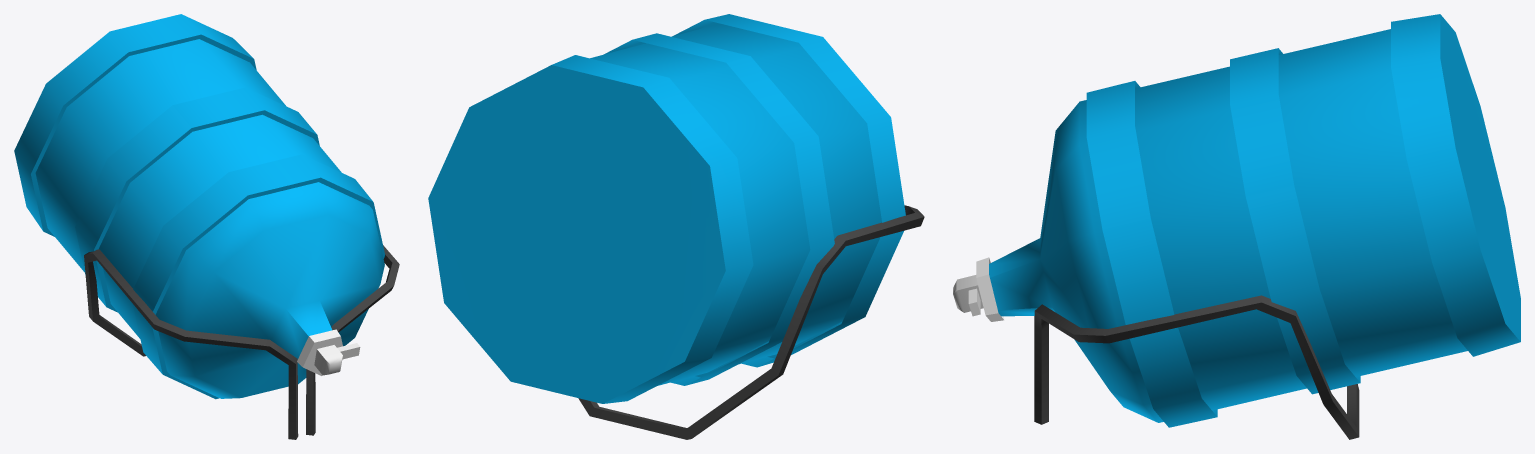
The model's file is electronics_022.glb.
3 renders of one model, left to right at view 1: azimuth 30°, elevation 25°; view 2: azimuth 150°, elevation 25°; view 3: azimuth 270°, elevation 25°, orthographic. The views are drawn at different scales.
Parts seen in each view (by area): view 1: electronics_022; view 2: electronics_022; view 3: electronics_022.
Boxes of the visible parts, box(x1,y1,x2,y2) form: electronics_022: box(14, 14, 399, 439); electronics_022: box(428, 14, 924, 439); electronics_022: box(953, 14, 1520, 439).
Size of the model in its own units: 0.3025 by 0.3513 by 0.4751.
1 material, 1 textured.
